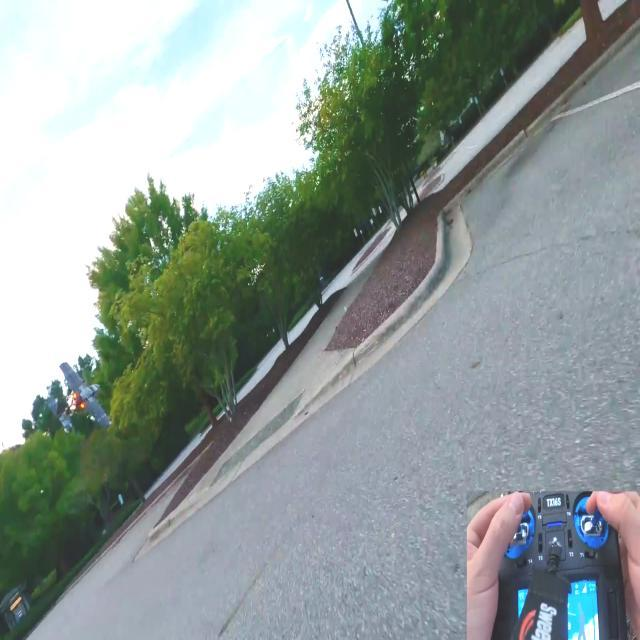iha: (15, 391, 18, 408)
